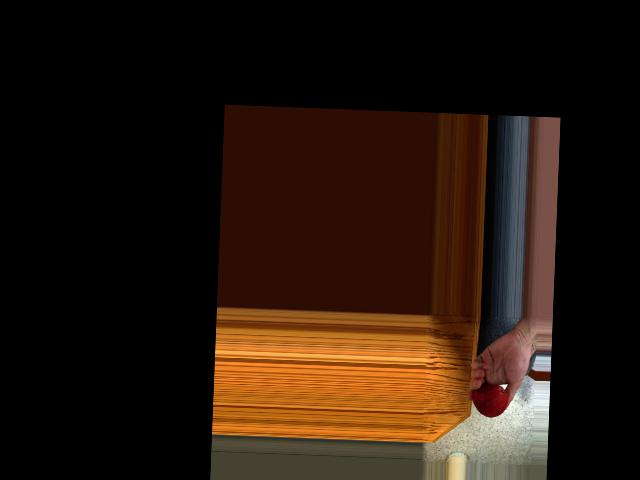apple: (473, 383, 508, 420)
